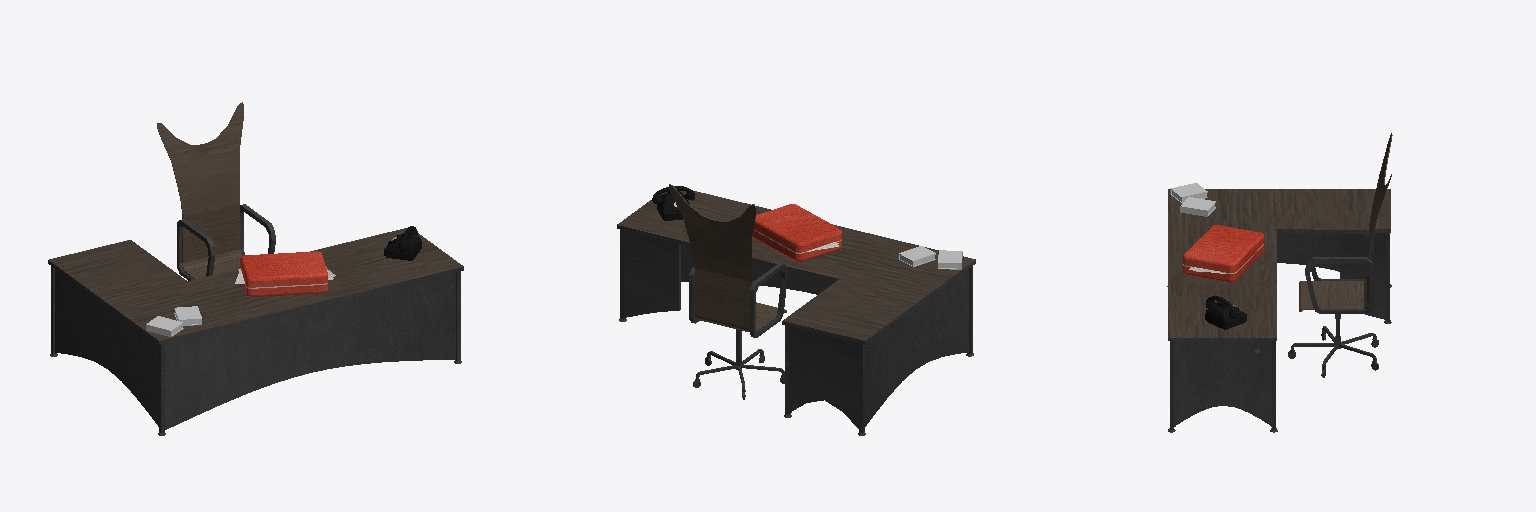
3 renders of one model, left to right at view 1: azimuth 30°, elevation 25°; view 2: azimuth 150°, elevation 25°; view 3: azimuth 270°, elevation 25°, orthographic.
Parts seen in each view (by area): view 1: Escritorio; view 2: Escritorio; view 3: Escritorio.
Part boxes in pixels (x1,y1,x2,y2): Escritorio: (48, 102, 463, 435); Escritorio: (617, 184, 975, 435); Escritorio: (1167, 133, 1392, 432).
Size of the model in its own units: 2.19 by 1.41 by 1.4.
Materials: 10 (7 with a texture image).